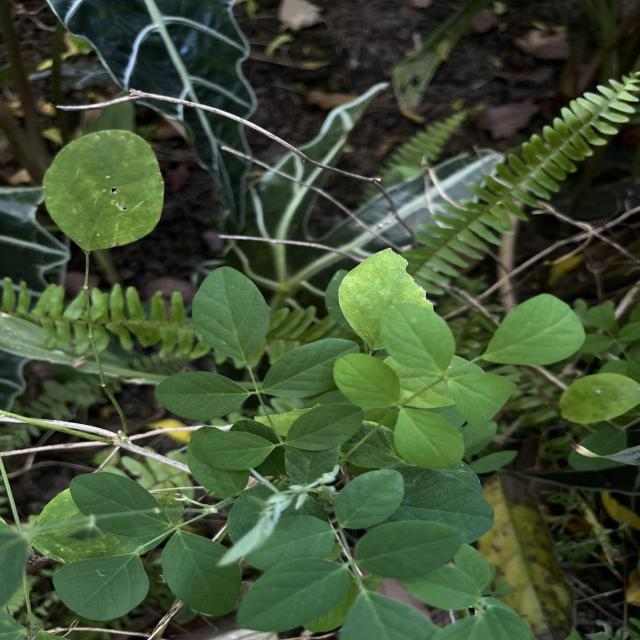Clitoria ternatea: (191, 265, 271, 366), (160, 528, 242, 616), (52, 552, 152, 622), (154, 370, 252, 422), (284, 403, 366, 452), (191, 430, 275, 472)
